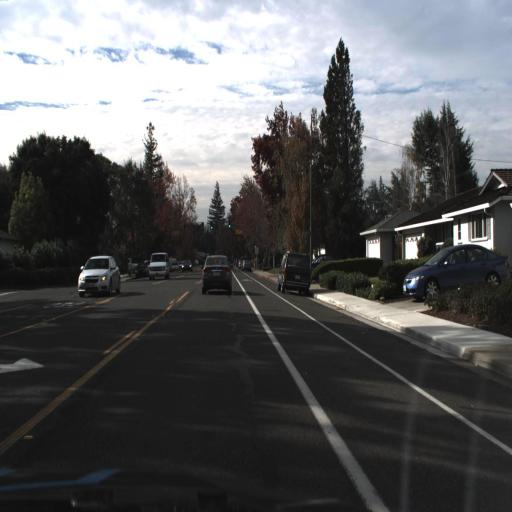car: (401, 242, 510, 304), (75, 253, 122, 300), (197, 250, 236, 300), (275, 249, 314, 294), (307, 252, 338, 279), (147, 251, 171, 281), (179, 256, 194, 275)
trafficLight-Green: (209, 216, 214, 232), (227, 216, 231, 230)
